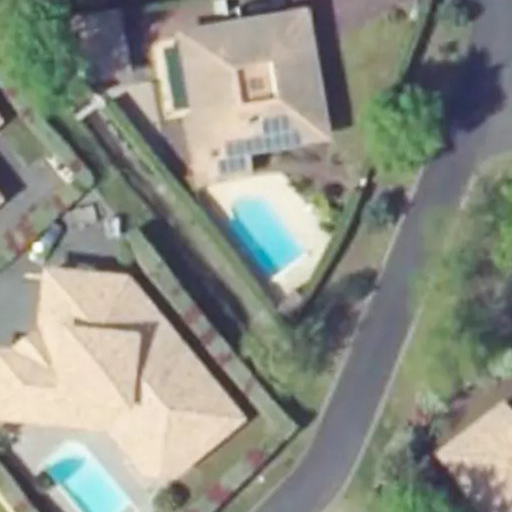pool: (208, 215, 296, 259)
